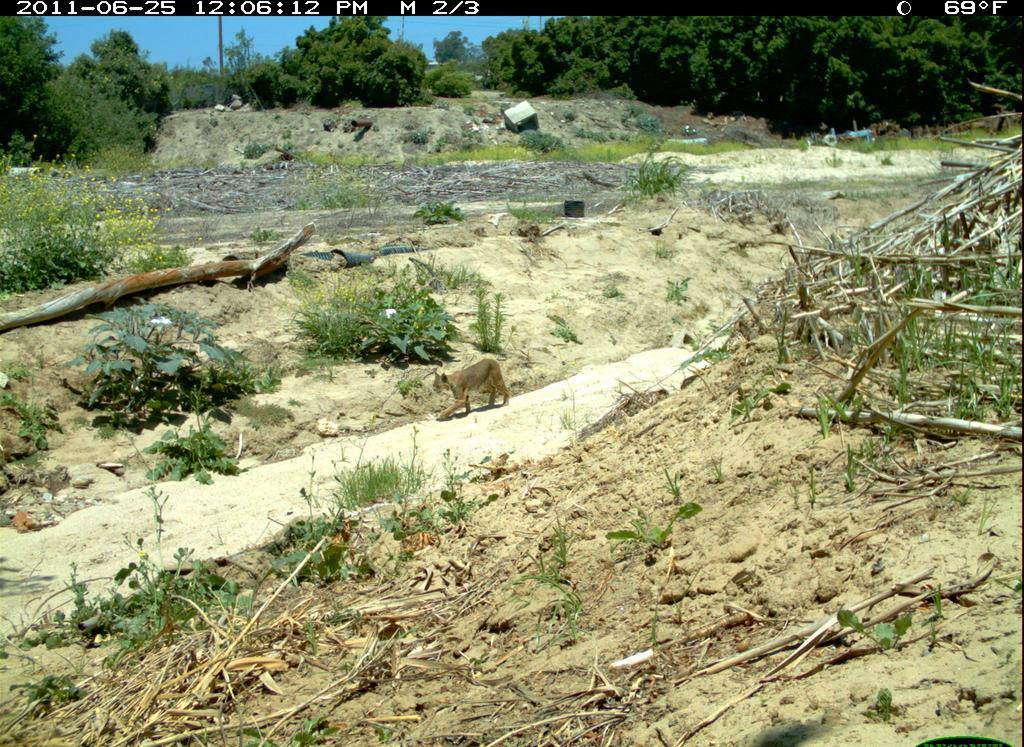bobcat: (425, 354, 513, 422)
